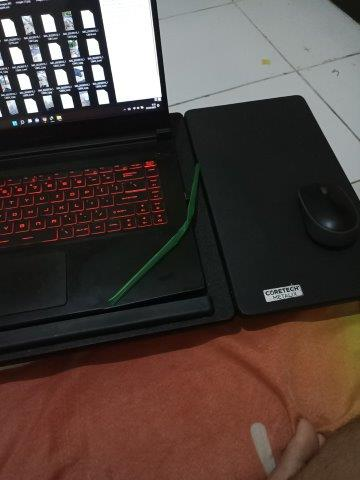sedotan: (109, 165, 199, 303)
